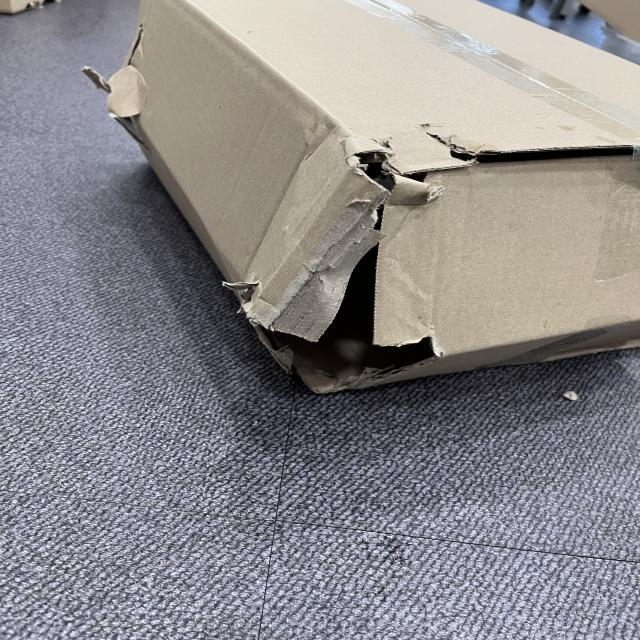hole: (297, 145, 450, 389)
